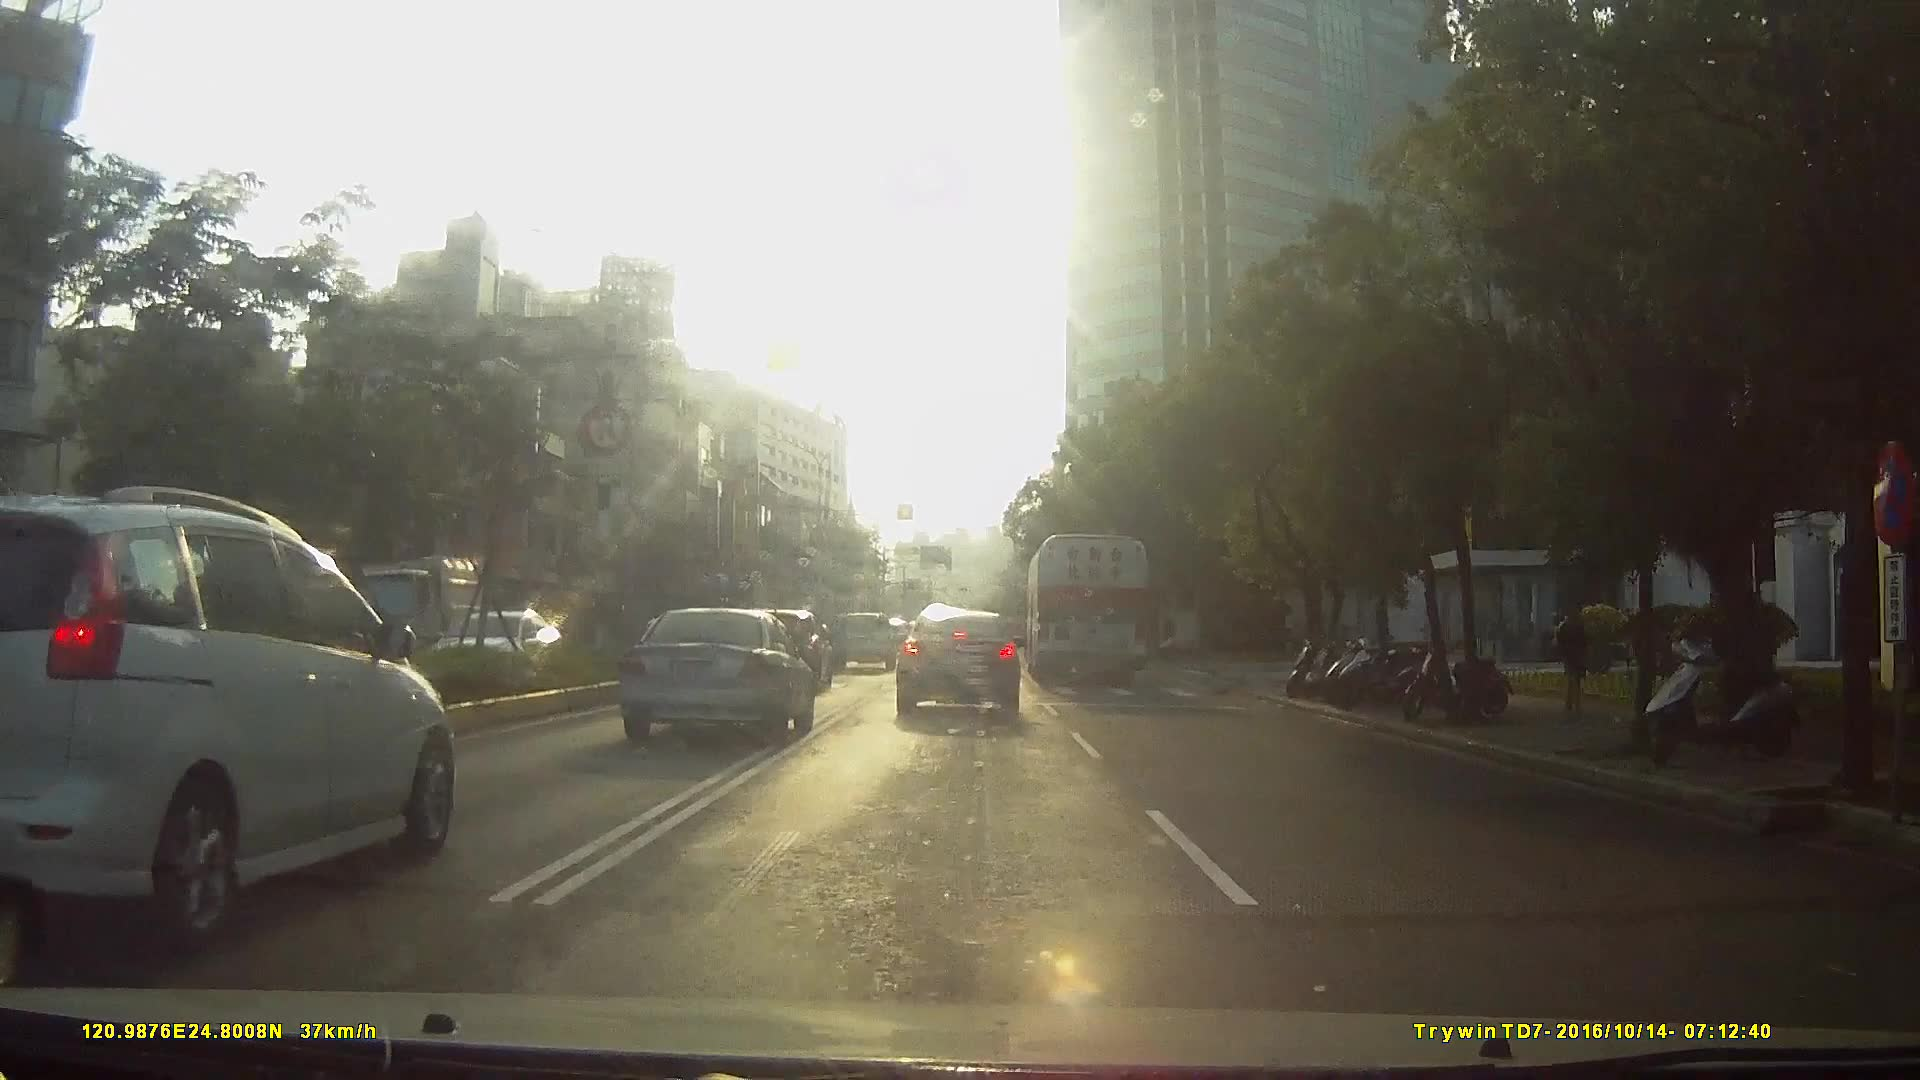pedestrian: (1553, 605, 1601, 715)
vehicle: (3, 474, 461, 962), (250, 556, 684, 868), (607, 603, 810, 745), (1022, 531, 1149, 689), (317, 551, 464, 661), (892, 600, 1022, 719), (441, 608, 567, 689), (826, 609, 894, 671)
